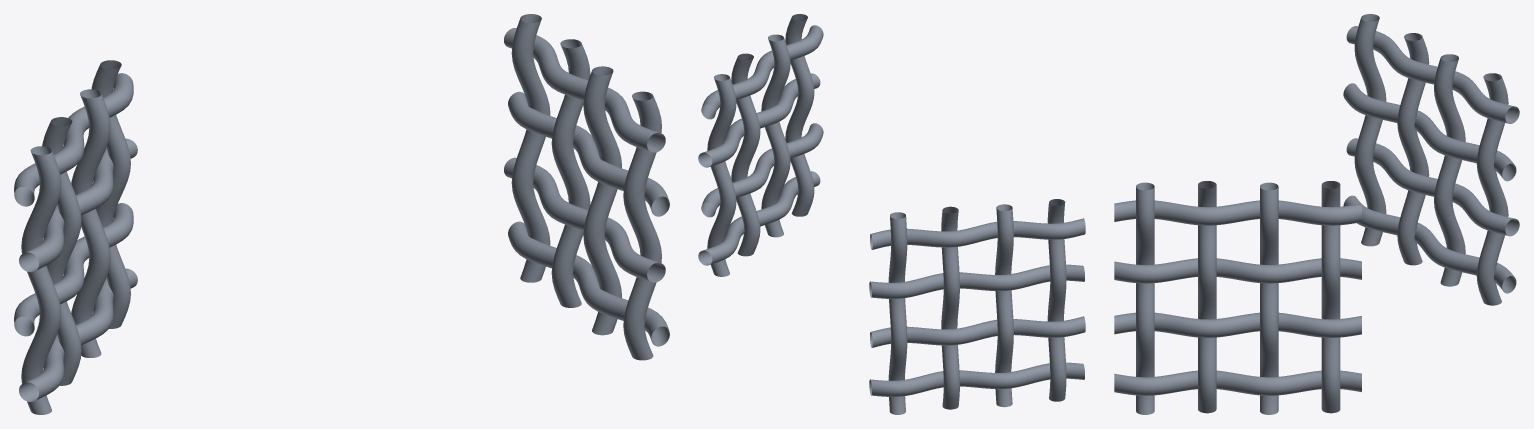
The picture shows the model from 3 angles, left to right: view 1: azimuth 30°, elevation 25°; view 2: azimuth 150°, elevation 25°; view 3: azimuth 270°, elevation 25°; orthographic projection. The views are drawn at different scales.
Parts seen in each view (by area): view 1: Empty_Mesh, Empty_Mesh_RM2_0.001; view 2: Empty_Mesh_RM2_0.001, Empty_Mesh; view 3: Empty_Mesh, Empty_Mesh_RM2_0.001.
Boxes of the visible parts, box(x1,y1,x2,y2) form: Empty_Mesh: box(504, 14, 669, 360); Empty_Mesh_RM2_0.001: box(14, 60, 137, 414); Empty_Mesh_RM2_0.001: box(869, 199, 1085, 414); Empty_Mesh: box(698, 14, 823, 276); Empty_Mesh: box(1114, 181, 1361, 414); Empty_Mesh_RM2_0.001: box(1343, 14, 1519, 305).
Size of what is drawn, in the model's own units: 25.22 by 13.61 by 19.63.
